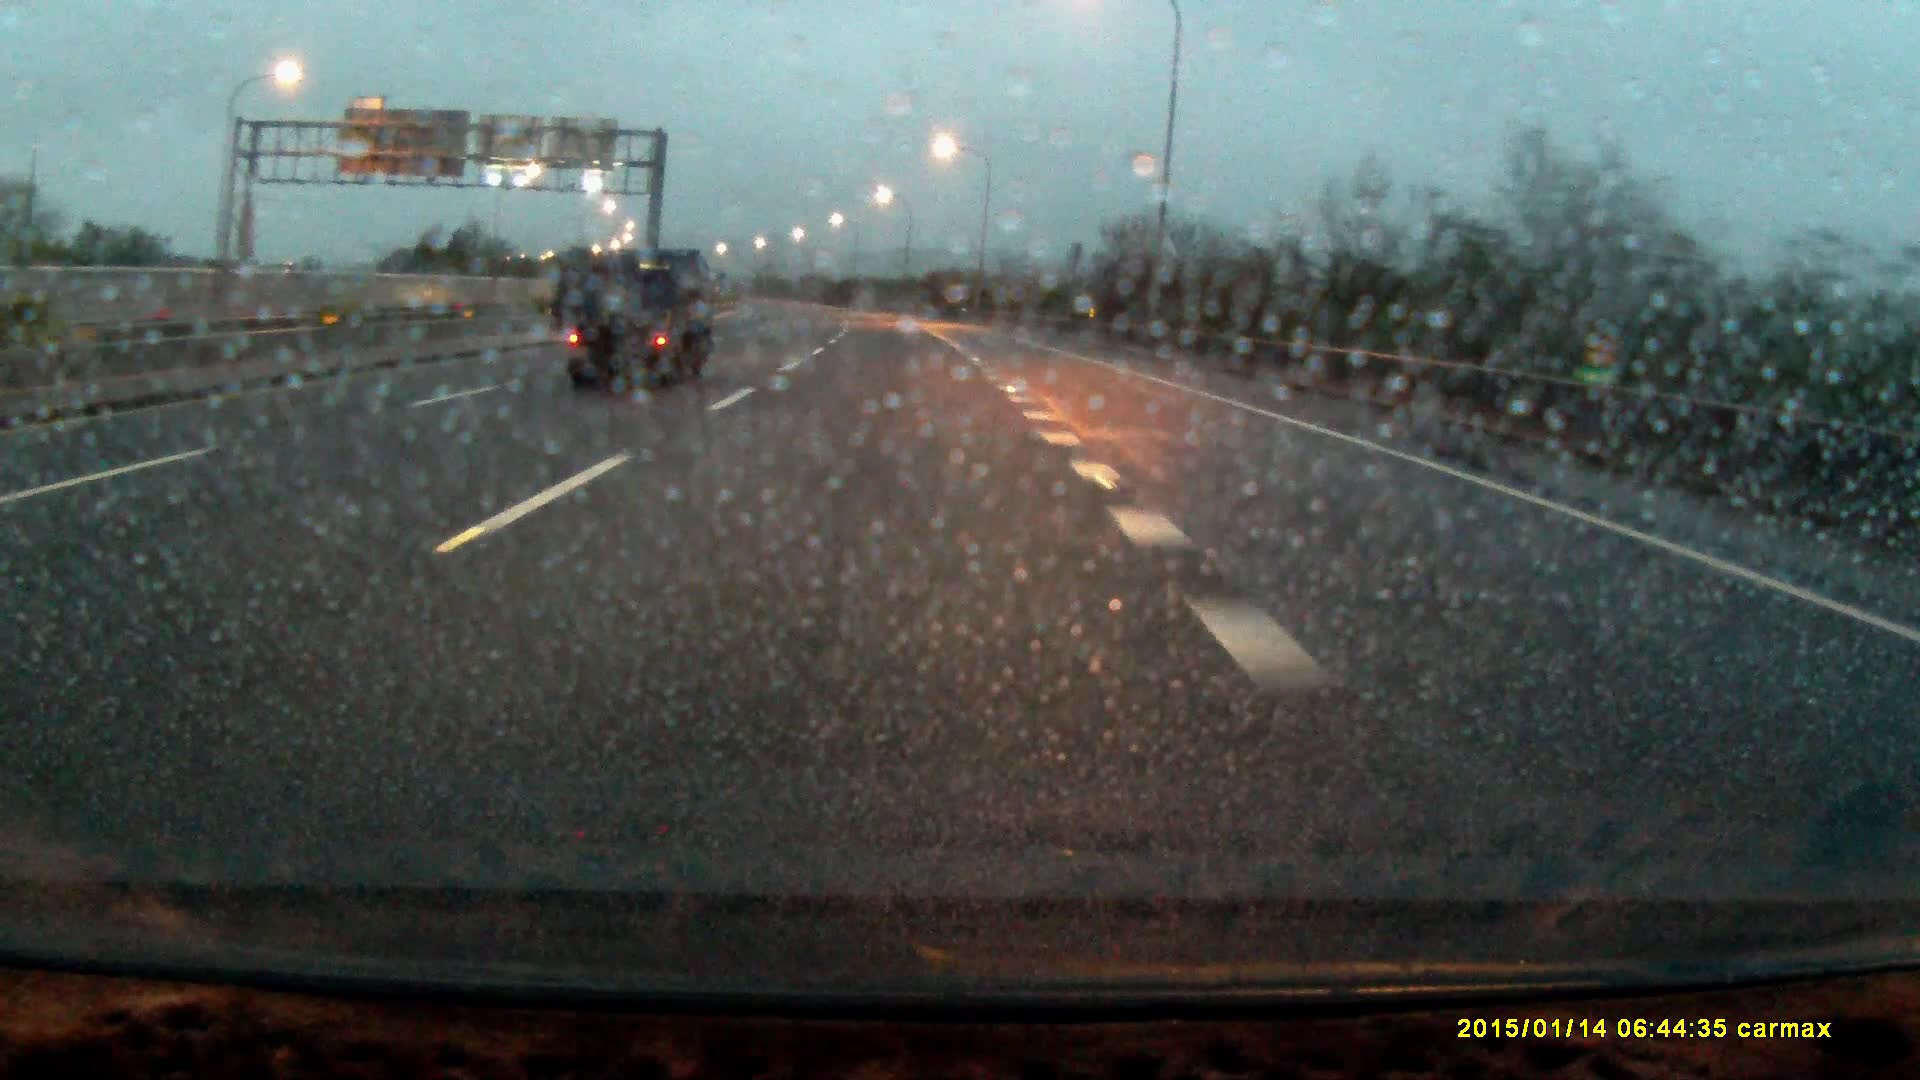vehicle: (559, 252, 717, 392)
